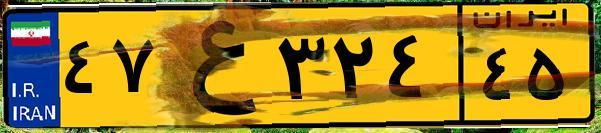2: (330, 28, 385, 110)
3: (270, 28, 330, 110)
4: (385, 28, 445, 110), (57, 26, 110, 100), (475, 38, 525, 113)
5: (525, 38, 570, 115)
7: (110, 28, 158, 98)
ع: (158, 12, 270, 120)
